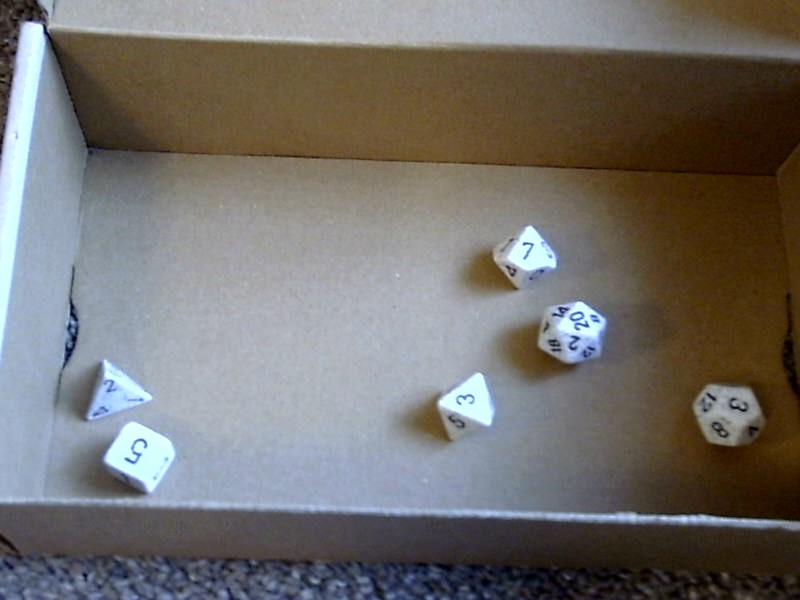d10 7: (486, 220, 563, 293)
d12 3: (686, 373, 773, 463)
d20 20: (533, 299, 611, 370)
d4 2: (77, 354, 154, 421)
d6 5: (95, 418, 180, 499)
d8 3: (428, 364, 499, 454)
